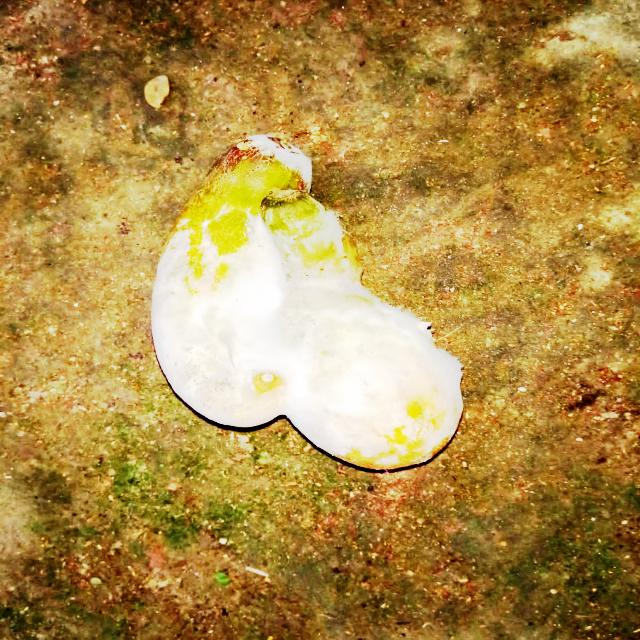Pythium-Fruit-Rot: (152, 130, 464, 473)
